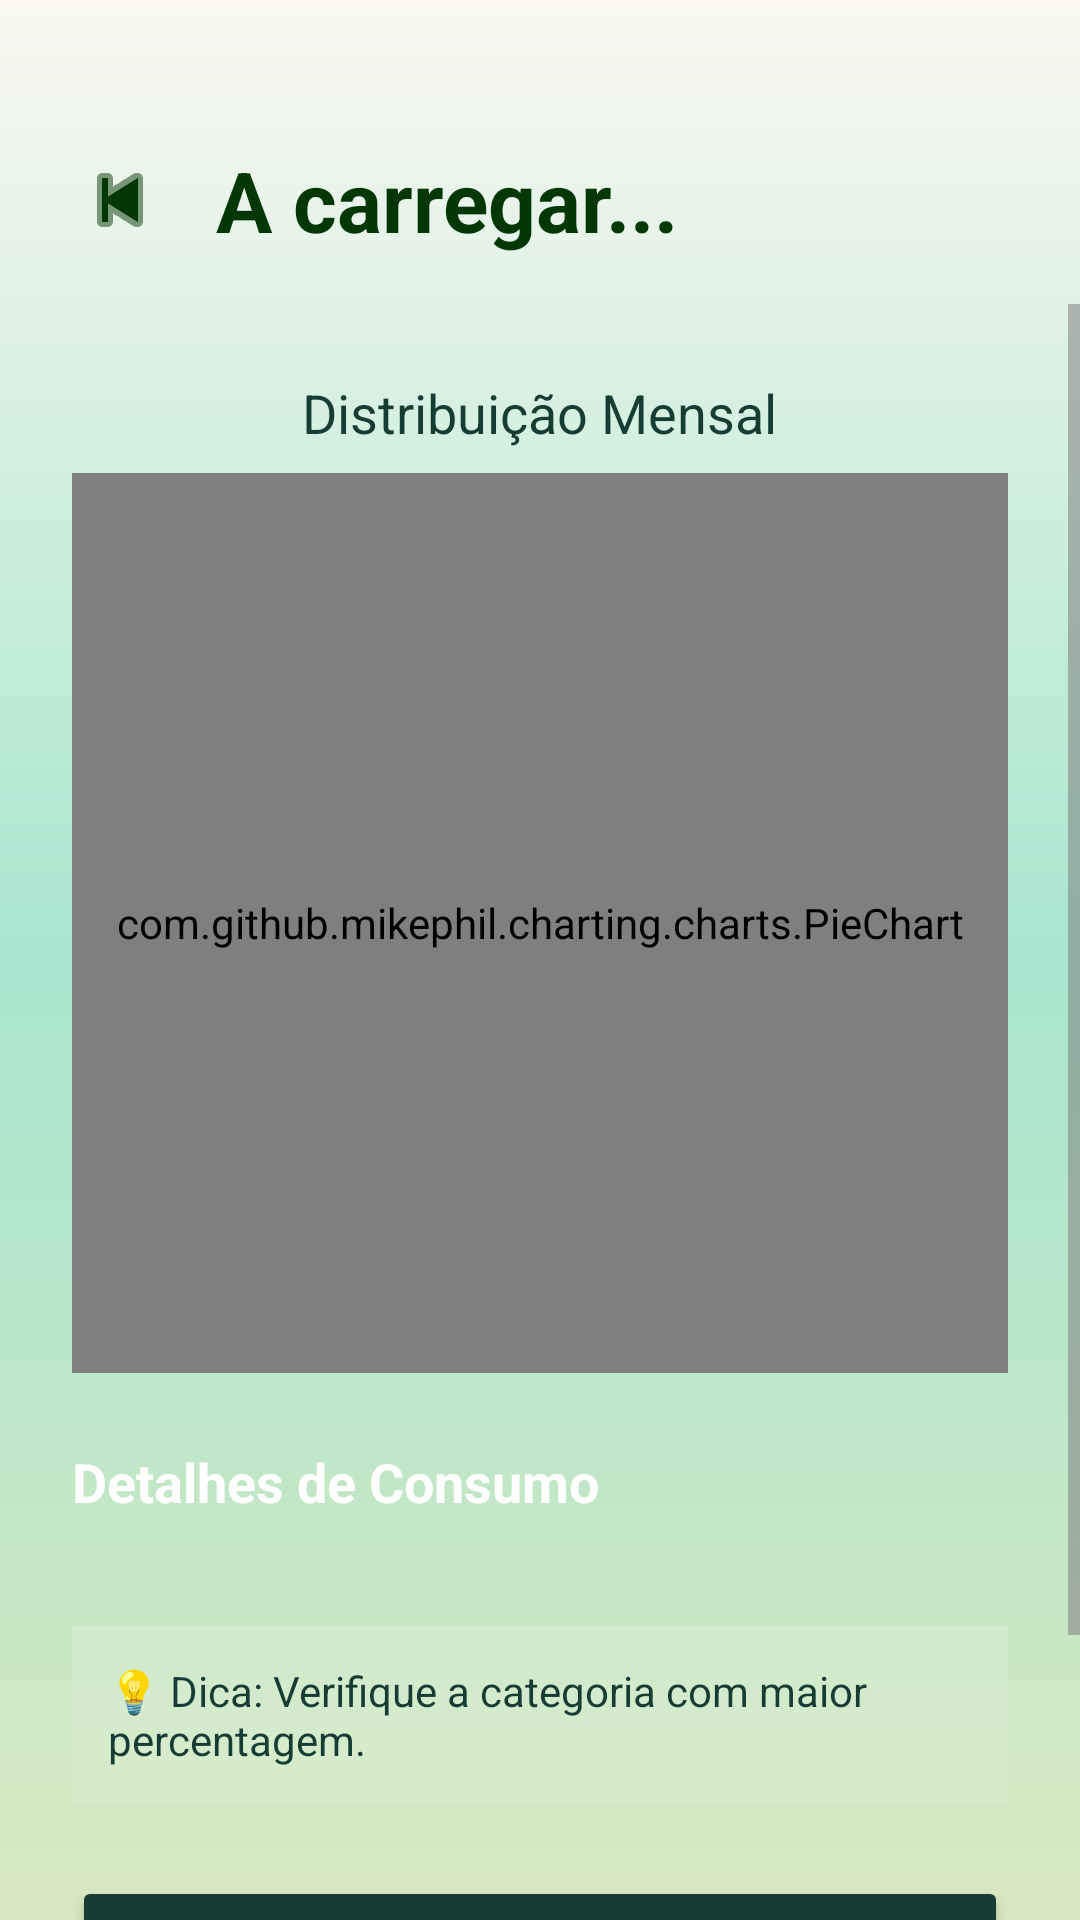

Named icons in this screenshot (1080*1920) and their bounding boxes, box(x1, y1, x2, y2):
Voltar: box(97, 173, 143, 227)
